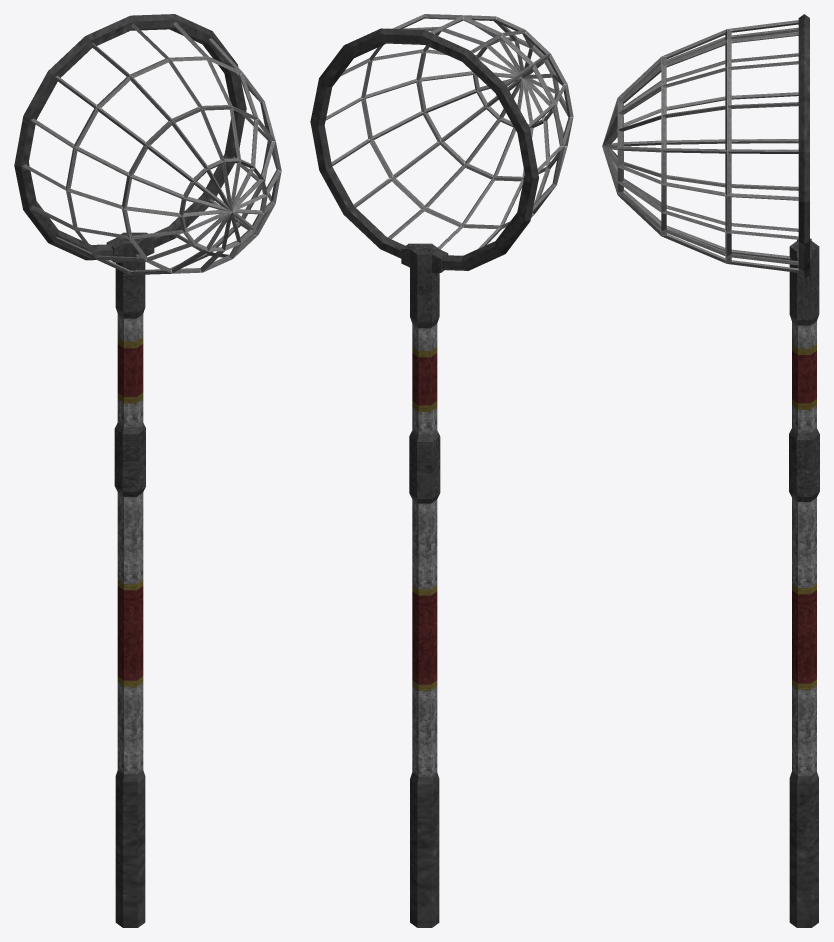
File: Net.fbx
The picture shows the model from 3 angles, left to right: view 1: azimuth 30°, elevation 25°; view 2: azimuth 150°, elevation 25°; view 3: azimuth 270°, elevation 25°; orthographic projection.
Visible parts, largest first — view 1: Staff, Net, Ring; view 2: Staff, Net, Ring; view 3: Staff, Net, Ring.
Part boxes in pixels (box(x1,y1,x2,y2)): Staff: box(106, 232, 154, 927); Net: box(22, 22, 281, 274); Ring: box(14, 14, 246, 260); Staff: box(401, 243, 448, 927); Net: box(325, 14, 573, 249); Ring: box(310, 28, 538, 270); Staff: box(789, 238, 819, 927); Net: box(602, 20, 798, 272); Ring: box(798, 14, 809, 278).
Bounding box in the file's own units: 640 × 2386 × 525.
